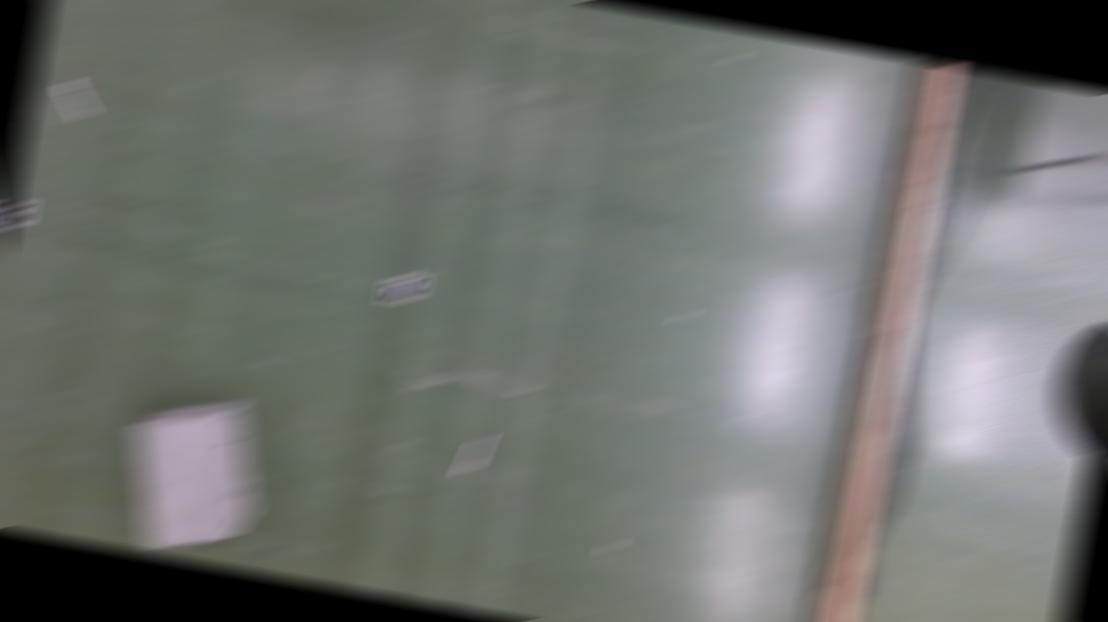probes: (56, 80, 96, 116), (458, 433, 490, 474)
rako: (112, 384, 273, 560)
